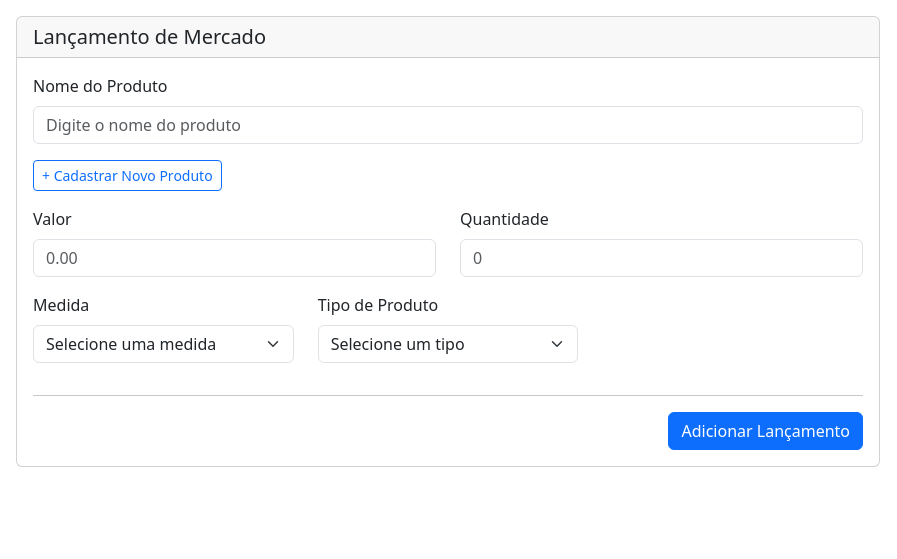
LancamentoMercado Component › Validação de formulário › deve mostrar erro quando tentar submeter formulário vazio
Click the button "Adicionar Lançamento": [766, 431] box [668,412,863,450]
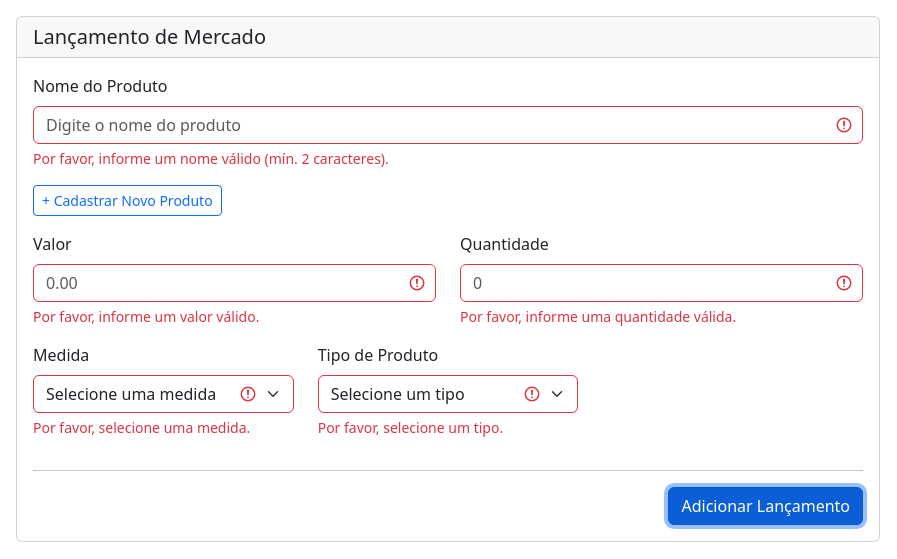
Expected: the text "Por favor, informe um nome válido (mín. 2 caracteres)." is shown, [33,149,389,168]
